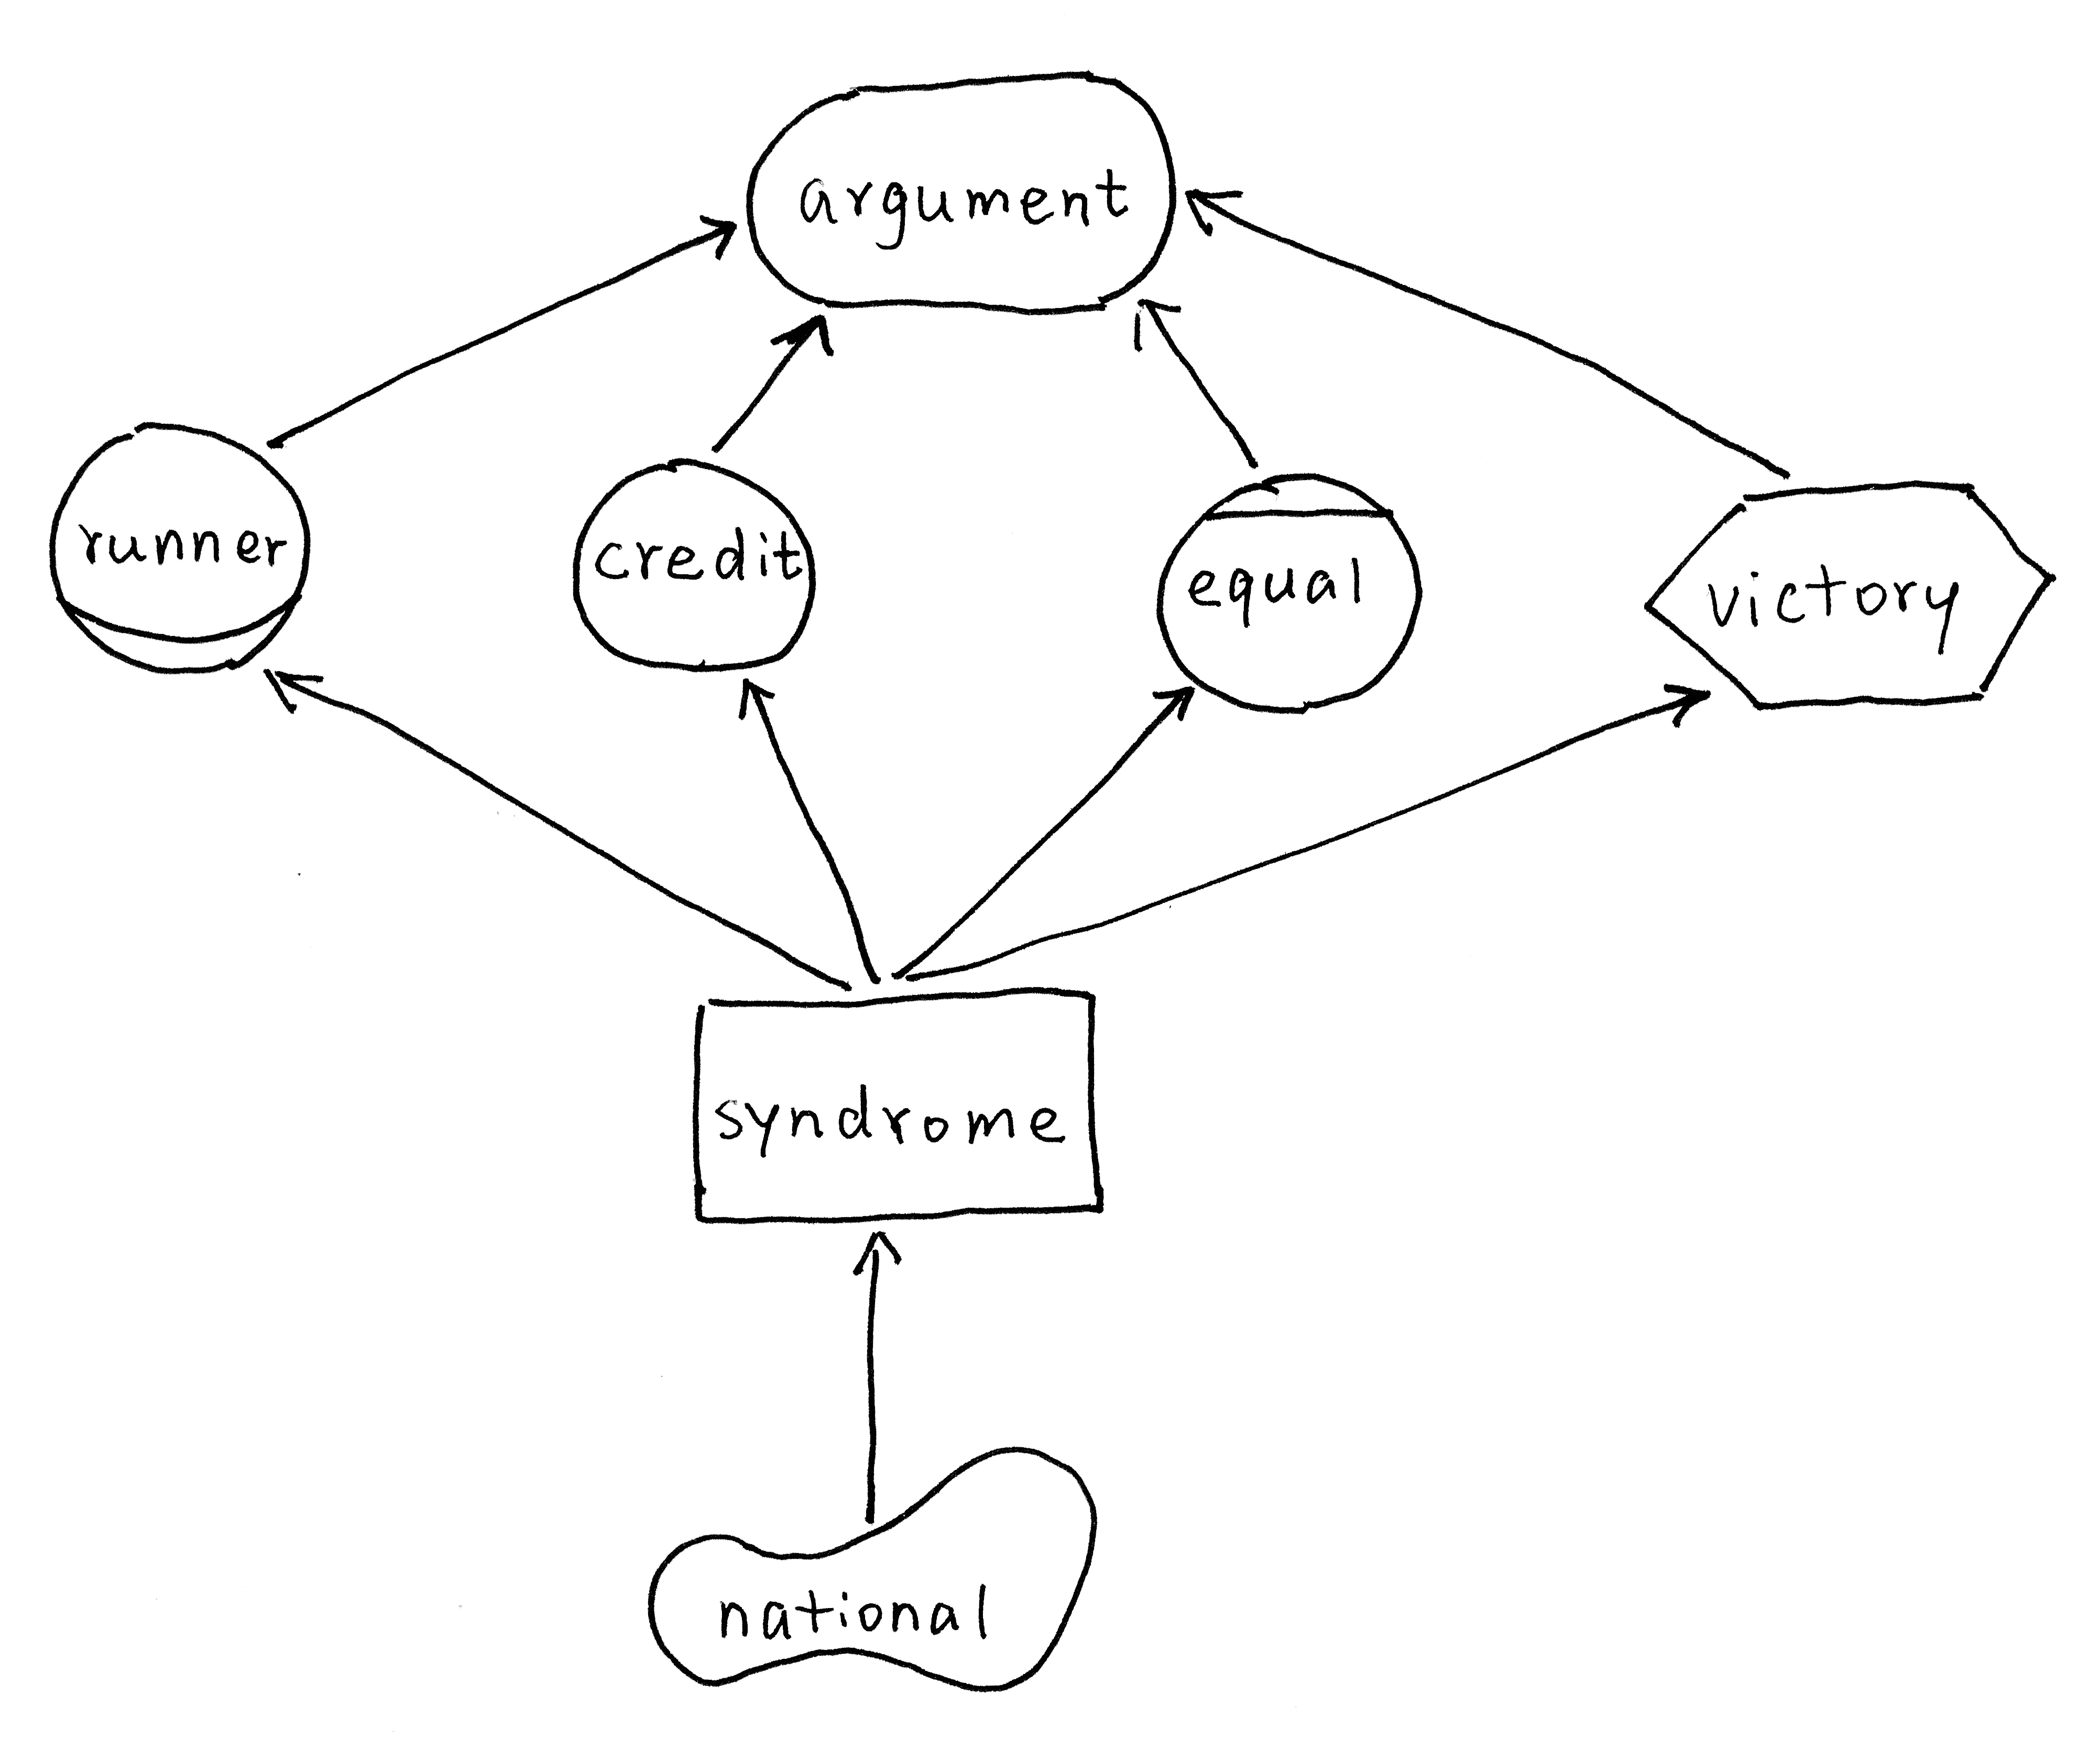actor: (560, 438, 835, 696)
agent: (1139, 454, 1439, 734)
arrow: (239, 652, 349, 734), (1167, 159, 1256, 258), (827, 1207, 921, 1294), (1111, 284, 1207, 365), (748, 300, 858, 368), (712, 654, 804, 720), (1640, 673, 1727, 743), (1135, 665, 1223, 731), (684, 187, 752, 270)
goal: (727, 51, 1191, 328)
quality: (628, 1424, 1111, 1706)
resource: (666, 970, 1132, 1246)
role: (30, 406, 328, 698)
task: (1631, 461, 2074, 729)
